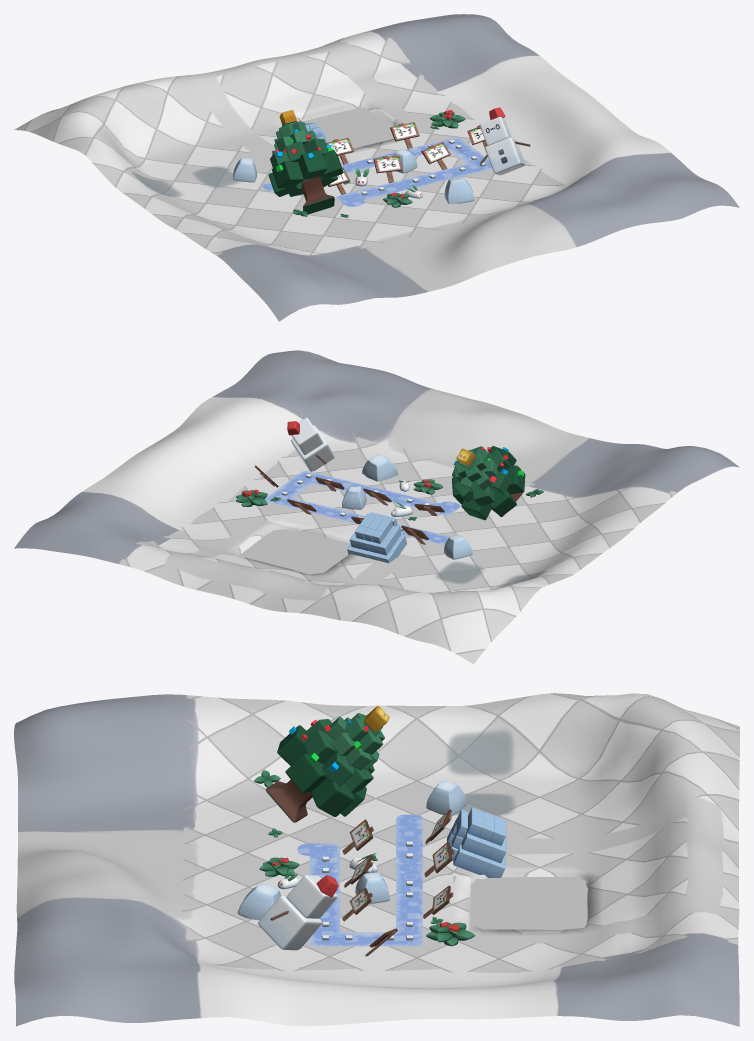
File: stage3_select_all_02.fbx
The picture shows the model from 3 angles, top to bottom: view 1: azimuth 30°, elevation 25°; view 2: azimuth 150°, elevation 25°; view 3: azimuth 270°, elevation 25°; orthographic projection. The views are drawn at different scales.
Parts seen in each view (by area): view 1: ground, road2, ike1, pCube1, parts08, snow01, parts05, parts06, pCube2; view 2: ground, ike1, road2, snow01, pCube1, pCube2, snow04; view 3: ground, road2, ike1, pCube1, parts01 (×2), parts02 (×2), pCube2, parts08, snow04, snow01, parts06, snow02.
Part boxes in pixels (bbox=[...]): ground: bbox=[14, 14, 739, 321]; road2: bbox=[262, 137, 492, 206]; ike1: bbox=[301, 107, 393, 148]; pCube1: bbox=[485, 137, 525, 175]; parts08: bbox=[301, 177, 334, 214]; snow01: bbox=[444, 176, 474, 203]; parts05: bbox=[272, 160, 304, 188]; parts06: bbox=[298, 150, 327, 179]; pCube2: bbox=[480, 117, 511, 145]; ground: bbox=[14, 350, 739, 664]; ike1: bbox=[240, 529, 349, 574]; road2: bbox=[265, 471, 460, 544]; snow01: bbox=[362, 454, 398, 481]; pCube1: bbox=[291, 425, 334, 471]; pCube2: bbox=[291, 417, 323, 455]; snow04: bbox=[444, 534, 472, 559]; ground: bbox=[14, 693, 739, 1026]; road2: bbox=[297, 814, 422, 946]; ike1: bbox=[453, 876, 587, 929]; pCube1: bbox=[258, 895, 321, 950]; parts01 (×2): bbox=[285, 730, 336, 793]; parts02 (×2): bbox=[310, 752, 354, 816]; pCube2: bbox=[286, 875, 337, 918]; parts08: bbox=[265, 779, 312, 822]; snow04: bbox=[426, 780, 466, 816]; snow01: bbox=[237, 883, 281, 920]; parts06: bbox=[277, 725, 308, 765]; snow02: bbox=[355, 872, 389, 903].
Size of the model in its own units: 29.31 by 6.49 by 29.28.
